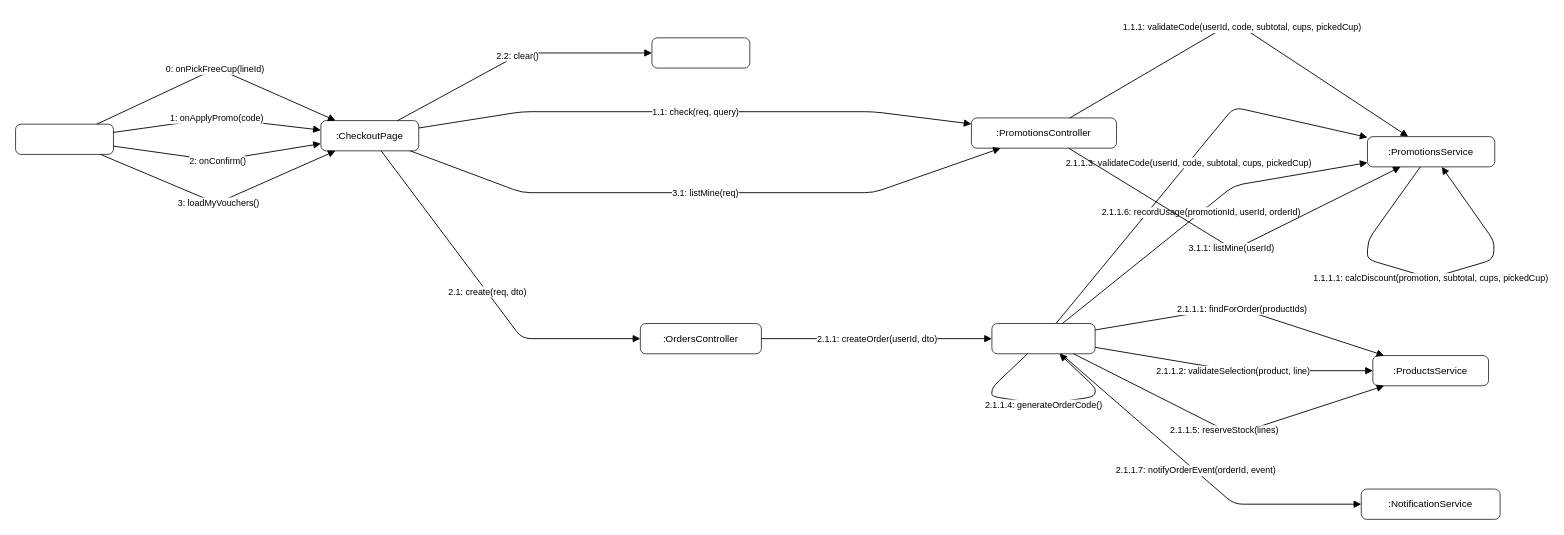
Image size: 1564x535. Some labels were removed from this diagram. Here are the shapes that lost their labels. From the top down, the centre of each, then its label:
At pixel 700 52: ":CartStore".
At pixel 64 138: ":Customer".
At pixel 1043 338: ":OrdersService".
